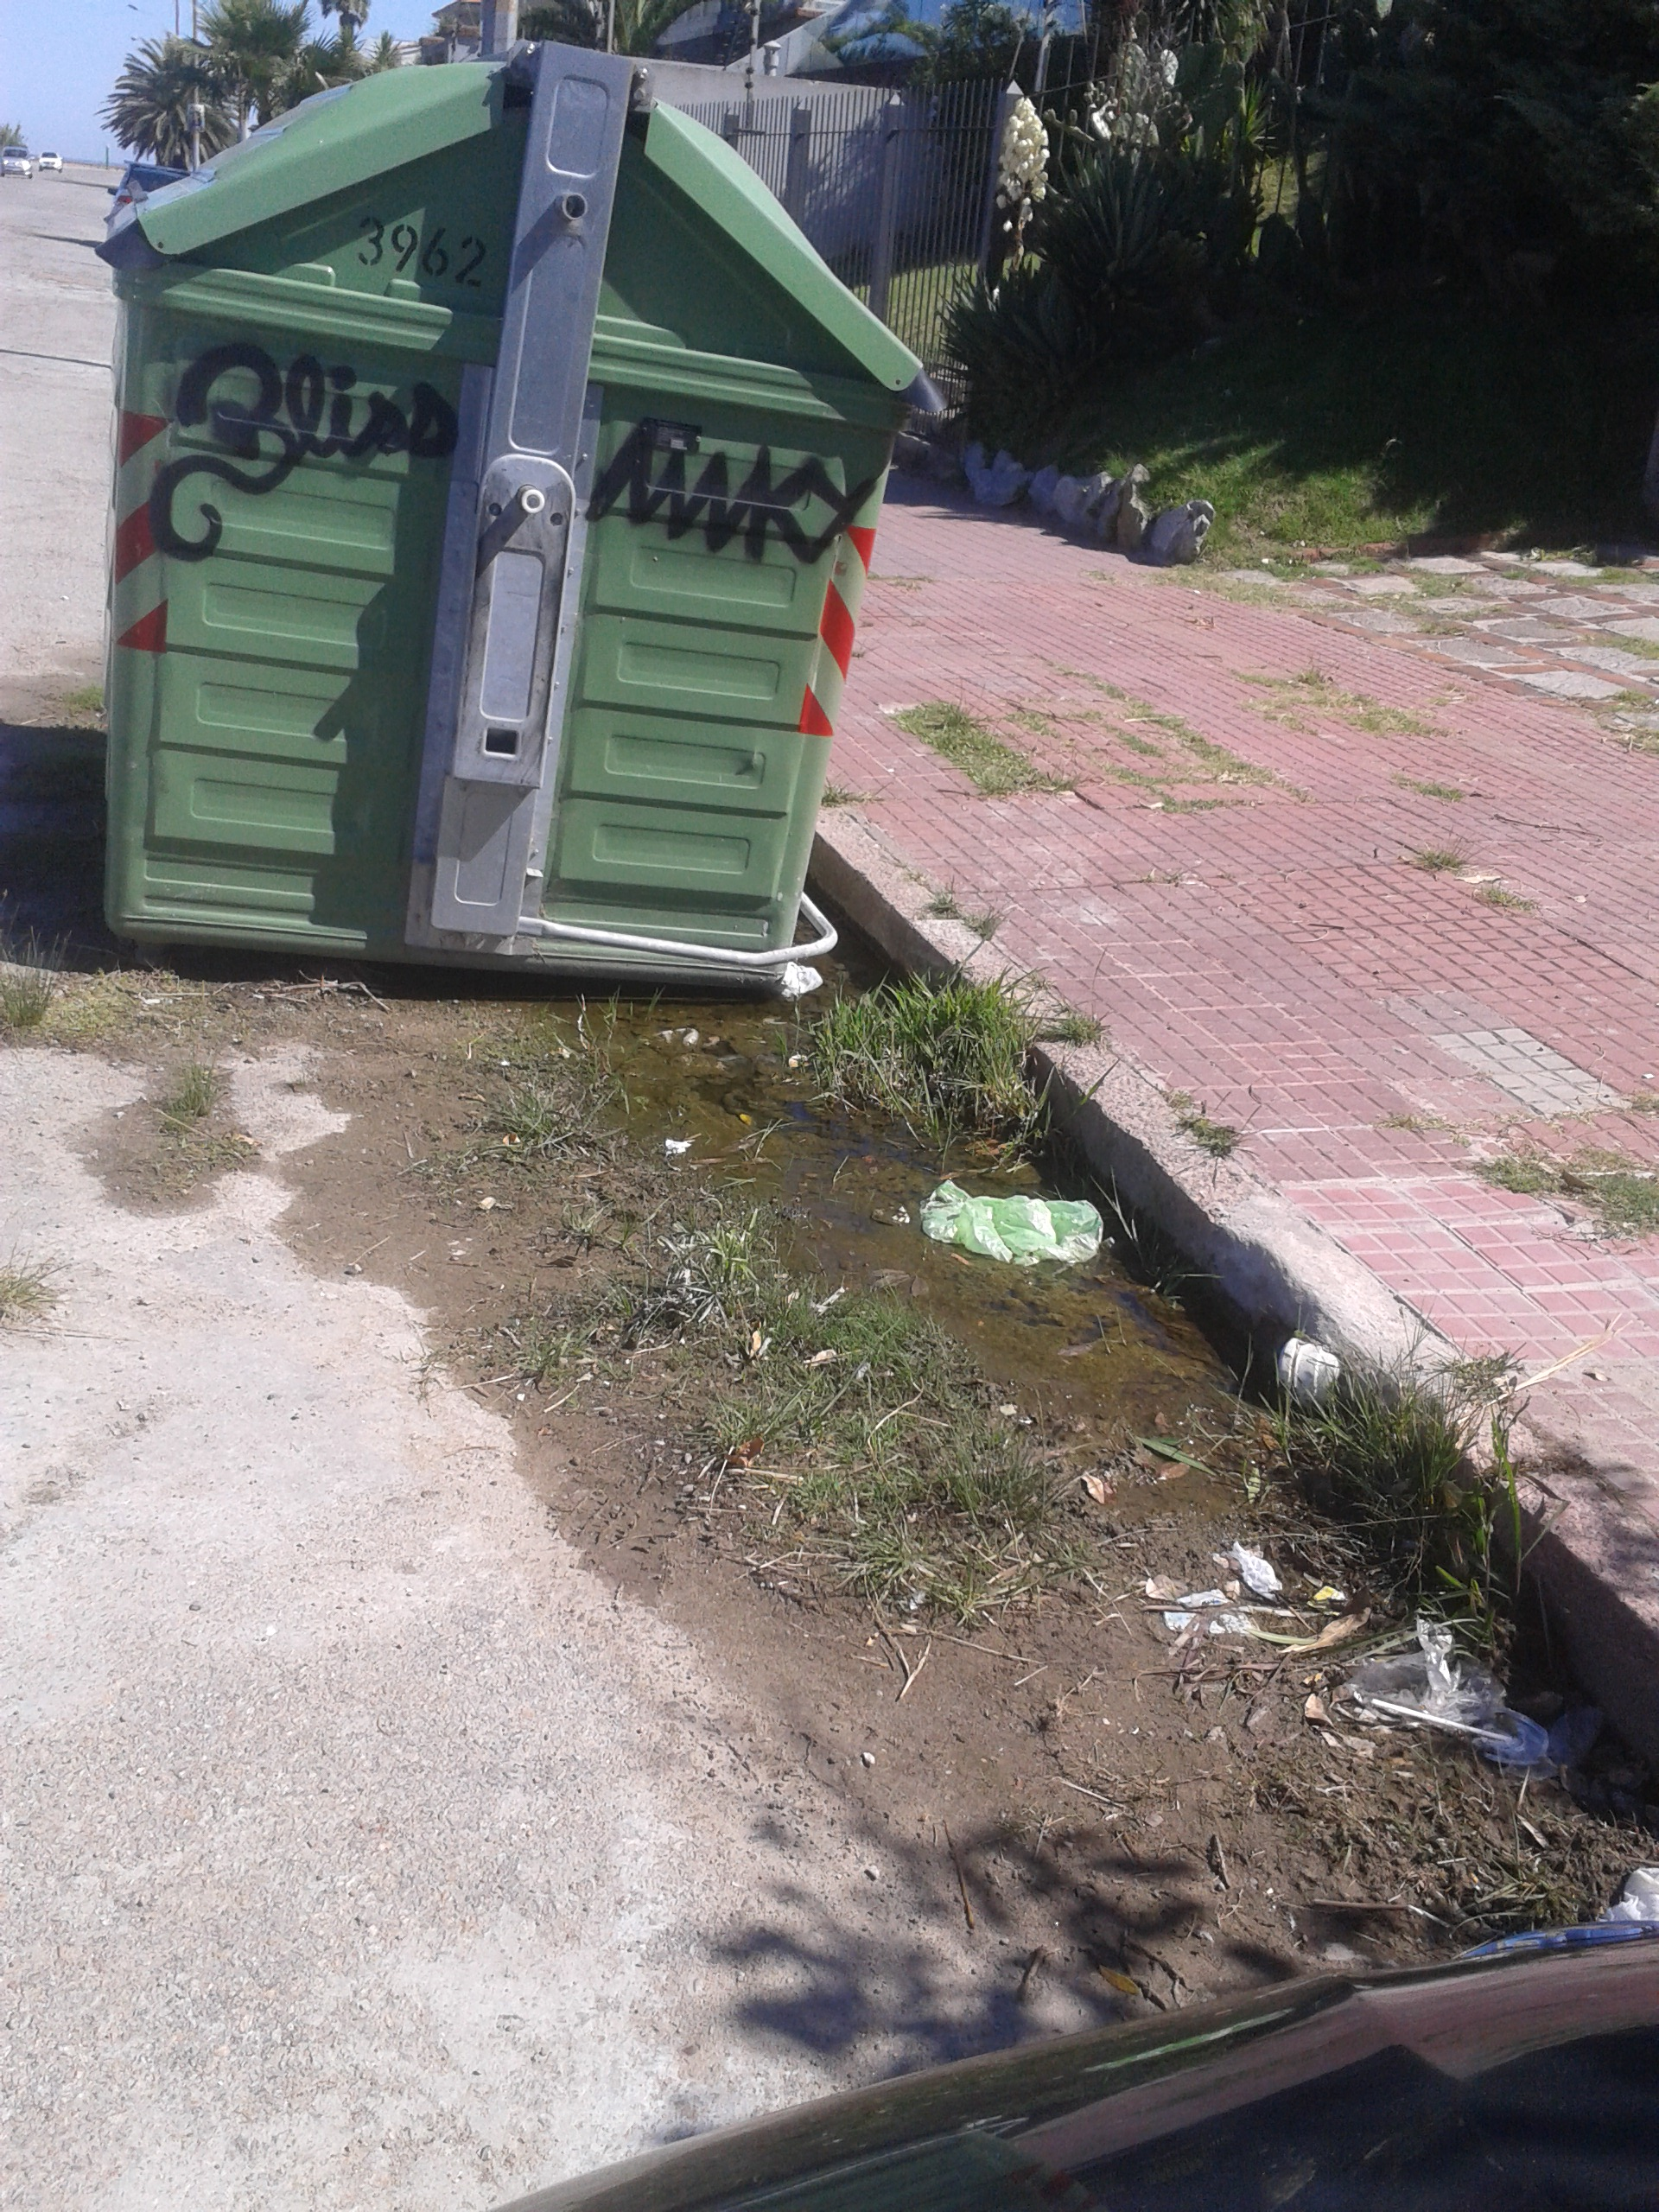container: (94, 0, 969, 1085)
